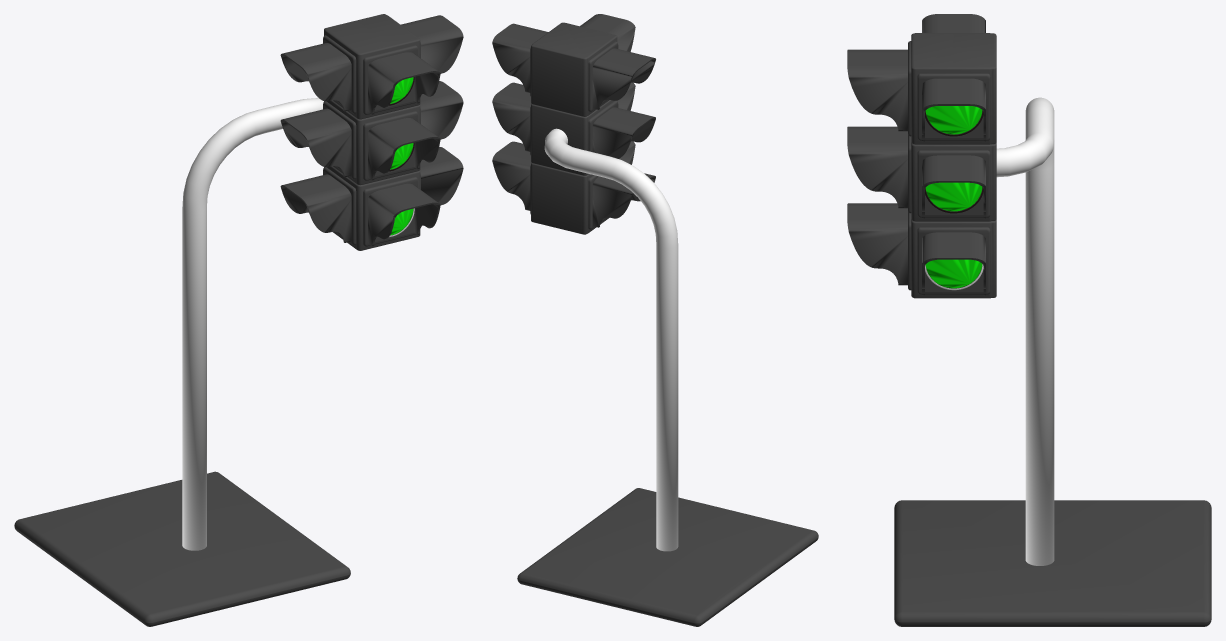
File: traffic_light.obj
The picture shows the model from 3 angles, left to right: view 1: azimuth 30°, elevation 25°; view 2: azimuth 150°, elevation 25°; view 3: azimuth 270°, elevation 25°; orthographic projection. The views are drawn at different scales.
Visible parts, largest first — view 1: Extrude-Extrude.1_8; view 2: Extrude-Extrude.1_8; view 3: Extrude-Extrude.1_8.
Part boxes in pixels (x1,y1,x2,y2): Extrude-Extrude.1_8: (14,14,463,626); Extrude-Extrude.1_8: (492,14,818,626); Extrude-Extrude.1_8: (847,14,1211,626).
Size of the model in its own units: 16.84 by 25.3 by 13.81.
